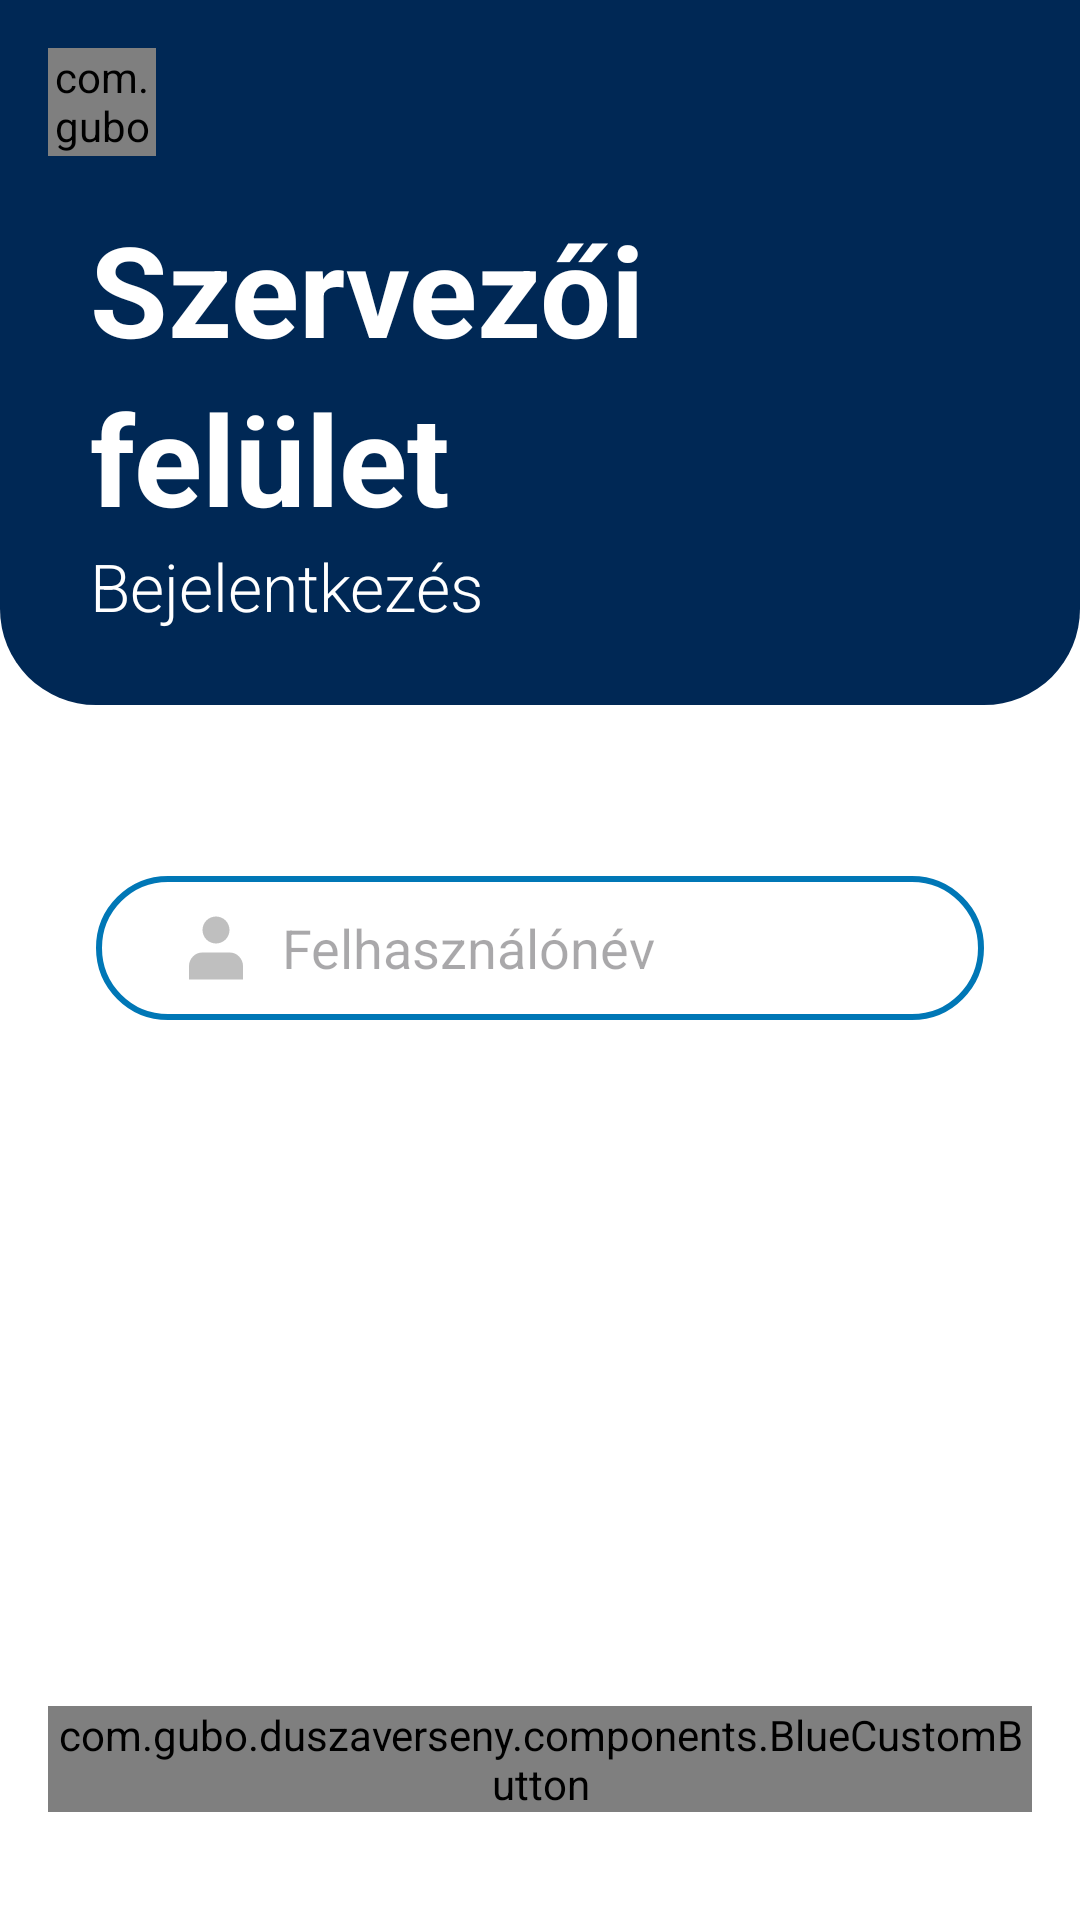

Screen size 1080x1920. Icon name, then its center in pixels as (x=x, y=y):
user: (x=216, y=948)
